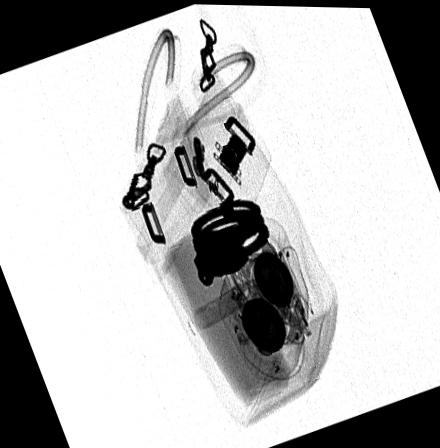HandCuffs: (189, 187, 271, 285)
